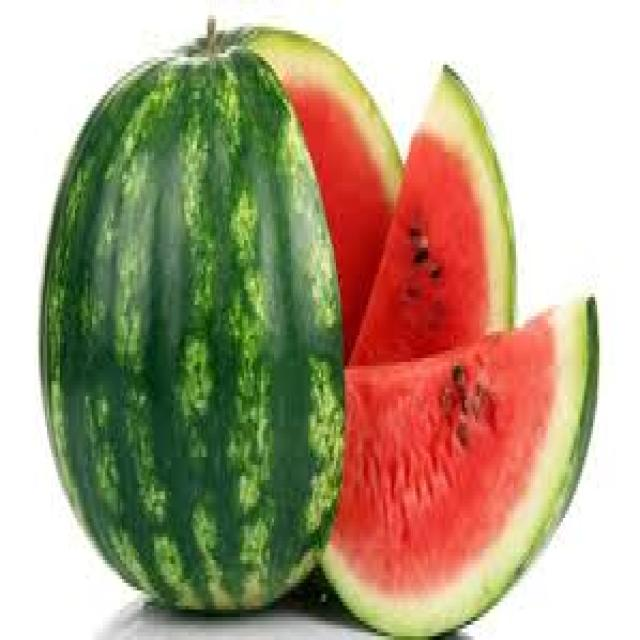watermelon: (36, 16, 344, 614), (317, 290, 599, 636), (216, 19, 405, 362), (344, 61, 516, 366)
